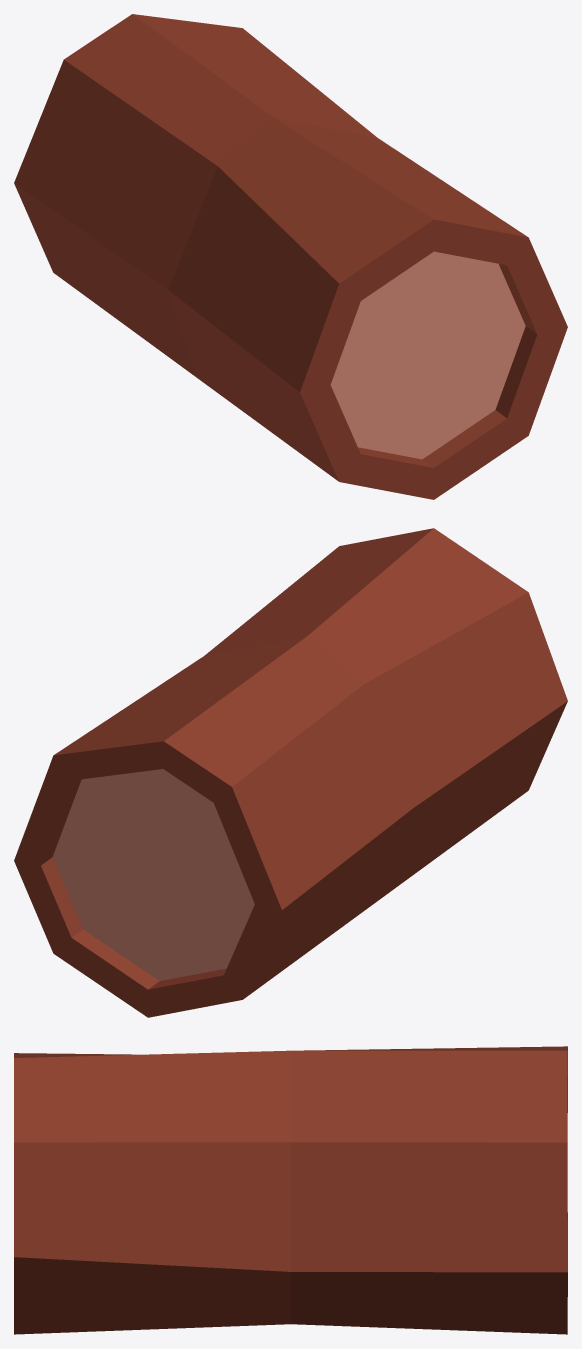
Rendered from log_4a.fbx.
3 views of the same model, one above another, from view 1: azimuth 30°, elevation 25°; view 2: azimuth 150°, elevation 25°; view 3: azimuth 270°, elevation 25° (orthographic). The views are drawn at different scales.
Parts seen in each view (by area): view 1: log_4a; view 2: log_4a; view 3: log_4a.
Boxes of the visible parts, x1,y1,x2,y2 form: log_4a: (14,14,567,499); log_4a: (14,528,567,1017); log_4a: (14,1046,567,1334).
Bounding box in the file's own units: 53.19 × 53.18 × 98.37.
